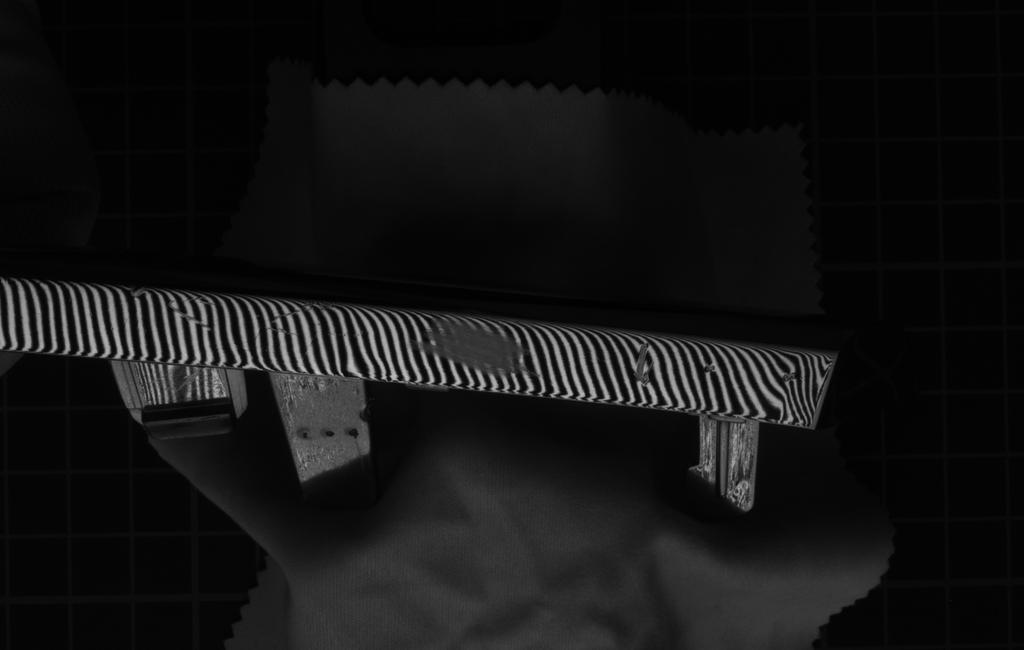Pierced: (781, 366, 801, 386), (126, 284, 148, 301), (703, 358, 722, 375)
Pitting: (412, 305, 553, 387)
Scratch: (165, 294, 220, 334), (263, 302, 316, 338), (630, 336, 656, 386)
